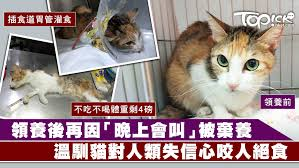cat: (188, 16, 289, 103)
